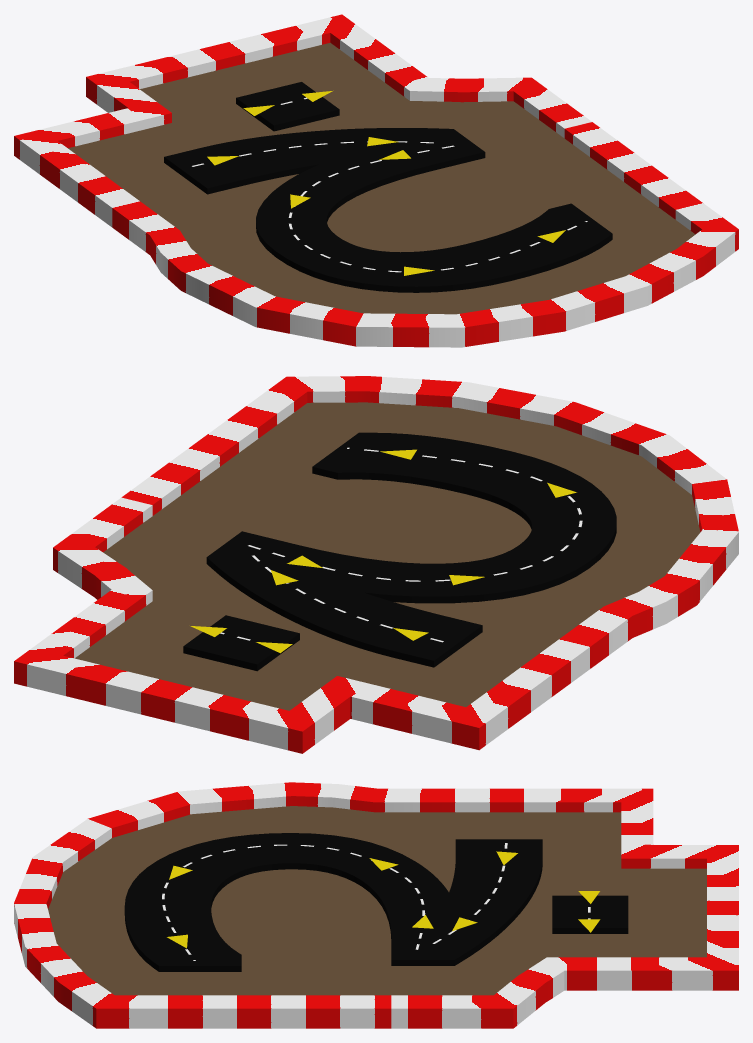
Rendered from kha2.FBX.
3 renders of one model, top to bottom at view 1: azimuth 30°, elevation 25°; view 2: azimuth 150°, elevation 25°; view 3: azimuth 270°, elevation 25°, orthographic. The views are drawn at different scales.
Visible parts, largest first — view 1: kha2_floor, kha2_coll, kha2; view 2: kha2_floor, kha2_coll, kha2; view 3: kha2_floor, kha2_coll, kha2, line1.
Part boxes in pixels (box(x1,y1,x2,y2)): kha2_floor: box(68, 42, 695, 314); kha2_coll: box(14, 14, 738, 347); kha2: box(164, 82, 612, 292); kha2_floor: box(75, 402, 700, 710); kha2_coll: box(14, 376, 738, 753); kha2: box(183, 432, 616, 671); kha2_floor: box(48, 806, 706, 995); kha2_coll: box(14, 782, 738, 1028); kha2: box(124, 833, 628, 971); line1: box(162, 844, 425, 960).
Size of the model in its own units: 800 by 32.77 by 1082.
